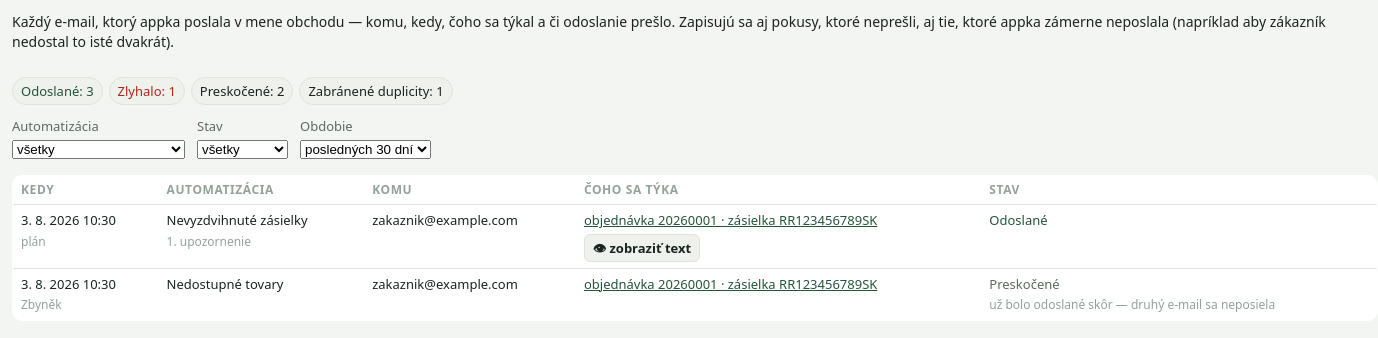
Test: zastaraná odpoveď staršieho filtra neprepíše prázdny výsledok najnovšieho (issue 521)
Expected: the table with test id "mail-log-table" is shown, [12,175,1377,321]
Note: Dve rýchle zmeny filtra za sebou → DVA fetche naraz v lete.
Select "Pripomienky objednávok" in the dropdown with test id "mail-log-filter-source". click: (98, 149)
box: [12,140,185,159]
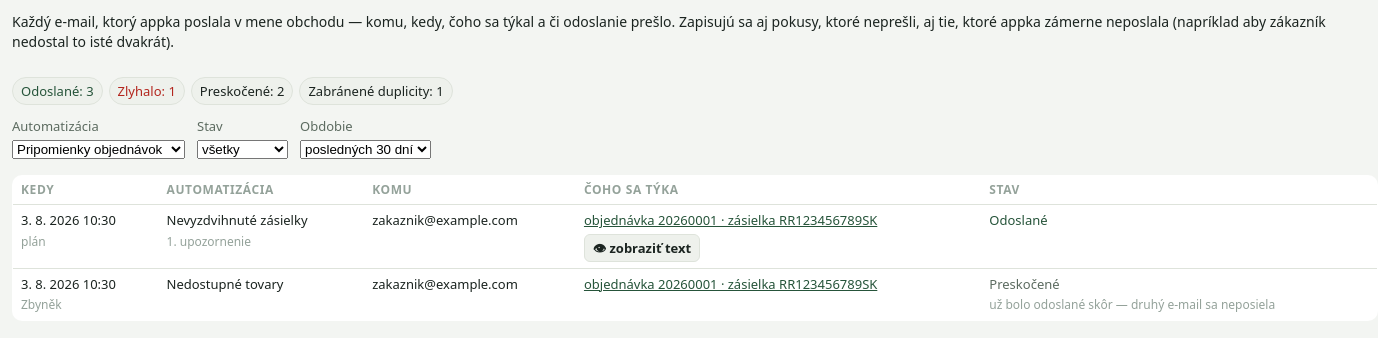
Select "zlyhalo" in the dropdown with test id "mail-log-filter-status". click: (242, 149)
box: [197,140,288,159]
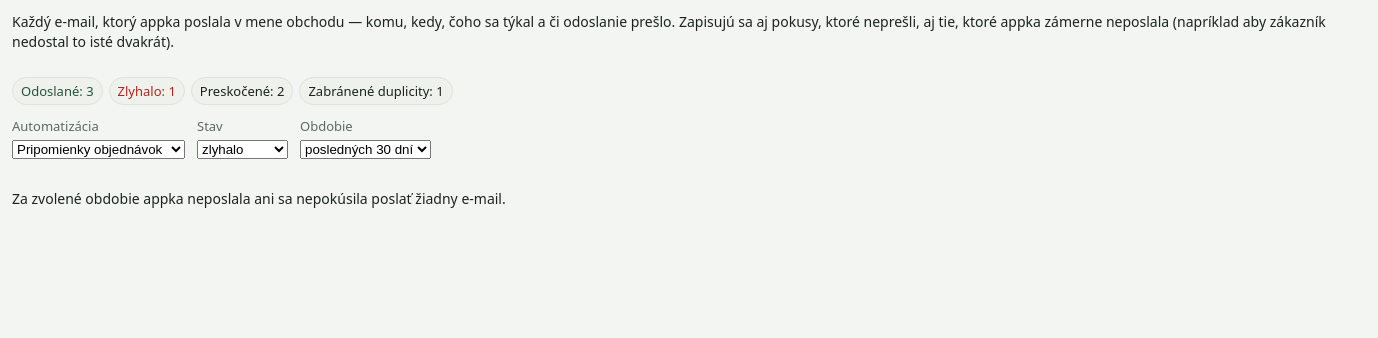
Now the text with test id "mail-log-empty" is shown, box [12,189,506,208]
Now the table with test id "mail-log-table" is gone
